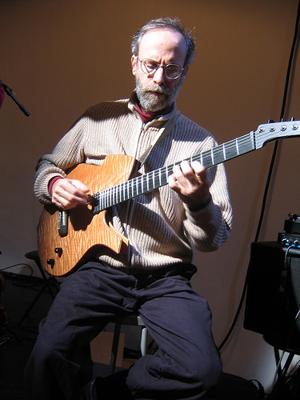person: (26, 18, 233, 394)
